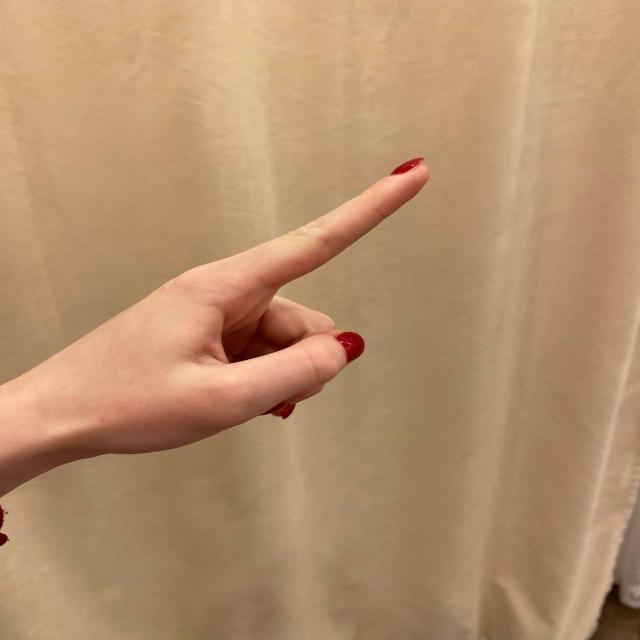z: (62, 144, 507, 458)
